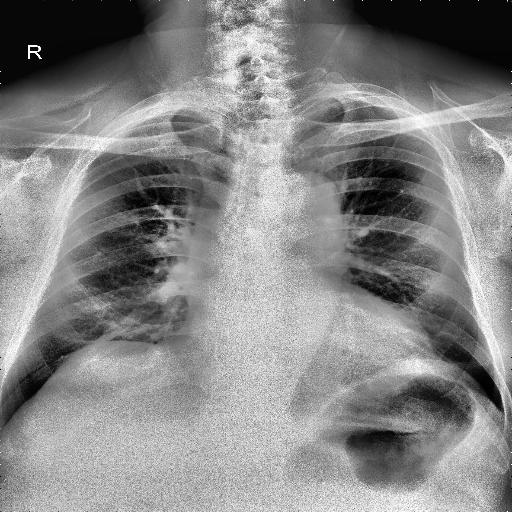0- Aortic enlargement: (264, 172, 344, 250), (254, 169, 344, 232), (283, 173, 342, 224)
11- Pleural thickening: (298, 92, 376, 114), (132, 106, 208, 124)
3- Cardiomegaly: (178, 304, 439, 380), (180, 303, 437, 366)
